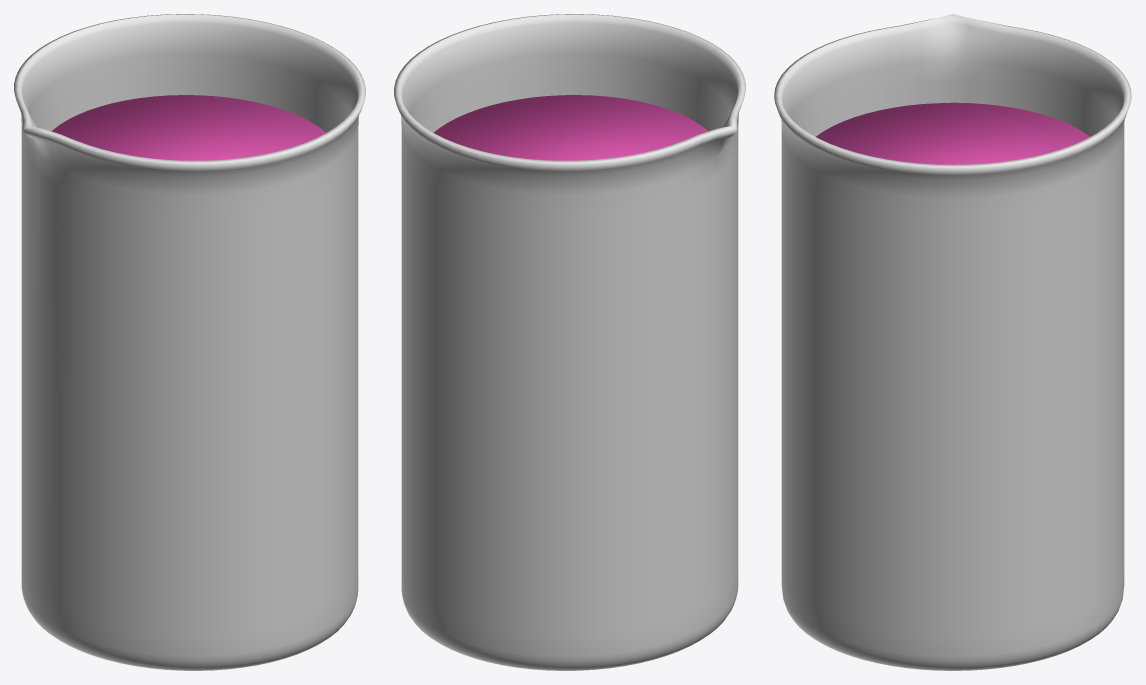
The model's file is correct_berzelius-with-substance.fbx.
3 views of the same model, side by side, from view 1: azimuth 30°, elevation 25°; view 2: azimuth 150°, elevation 25°; view 3: azimuth 270°, elevation 25° (orthographic).
Visible parts, largest first — view 1: Beaker - 5000 mL, Beaker - 5000 mL.001; view 2: Beaker - 5000 mL, Beaker - 5000 mL.001; view 3: Beaker - 5000 mL, Beaker - 5000 mL.001.
Boxes of the visible parts, left/top/right/bottom form: Beaker - 5000 mL: left=14, top=14, right=365, bottom=670; Beaker - 5000 mL.001: left=51, top=95, right=325, bottom=160; Beaker - 5000 mL: left=394, top=14, right=745, bottom=670; Beaker - 5000 mL.001: left=434, top=95, right=708, bottom=160; Beaker - 5000 mL: left=774, top=14, right=1131, bottom=670; Beaker - 5000 mL.001: left=816, top=102, right=1089, bottom=164.
Bounding box in the file's own units: 117 × 181 × 114.
